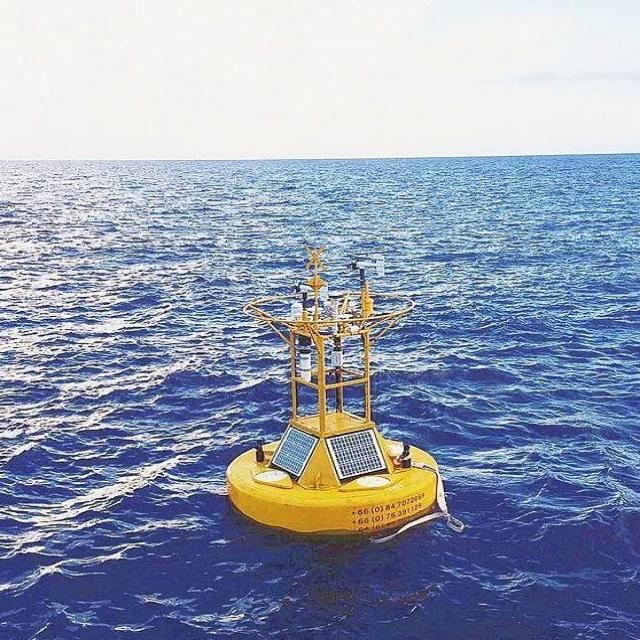buoy: (224, 243, 446, 538)
